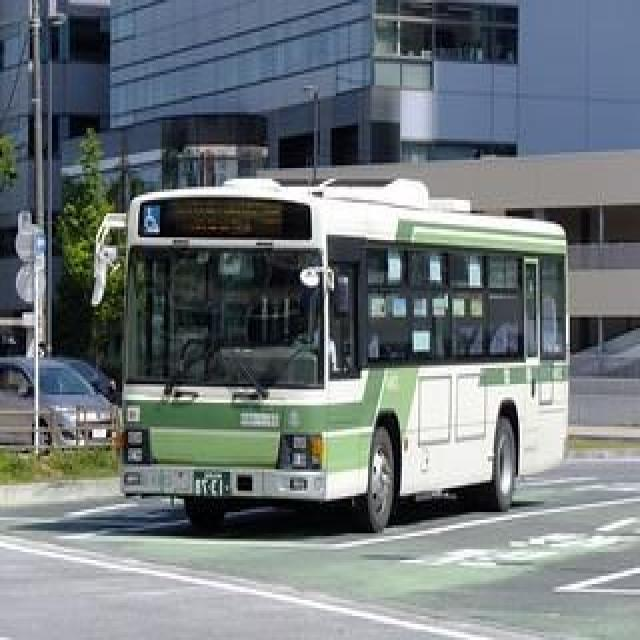Bus: (88, 172, 573, 531)
